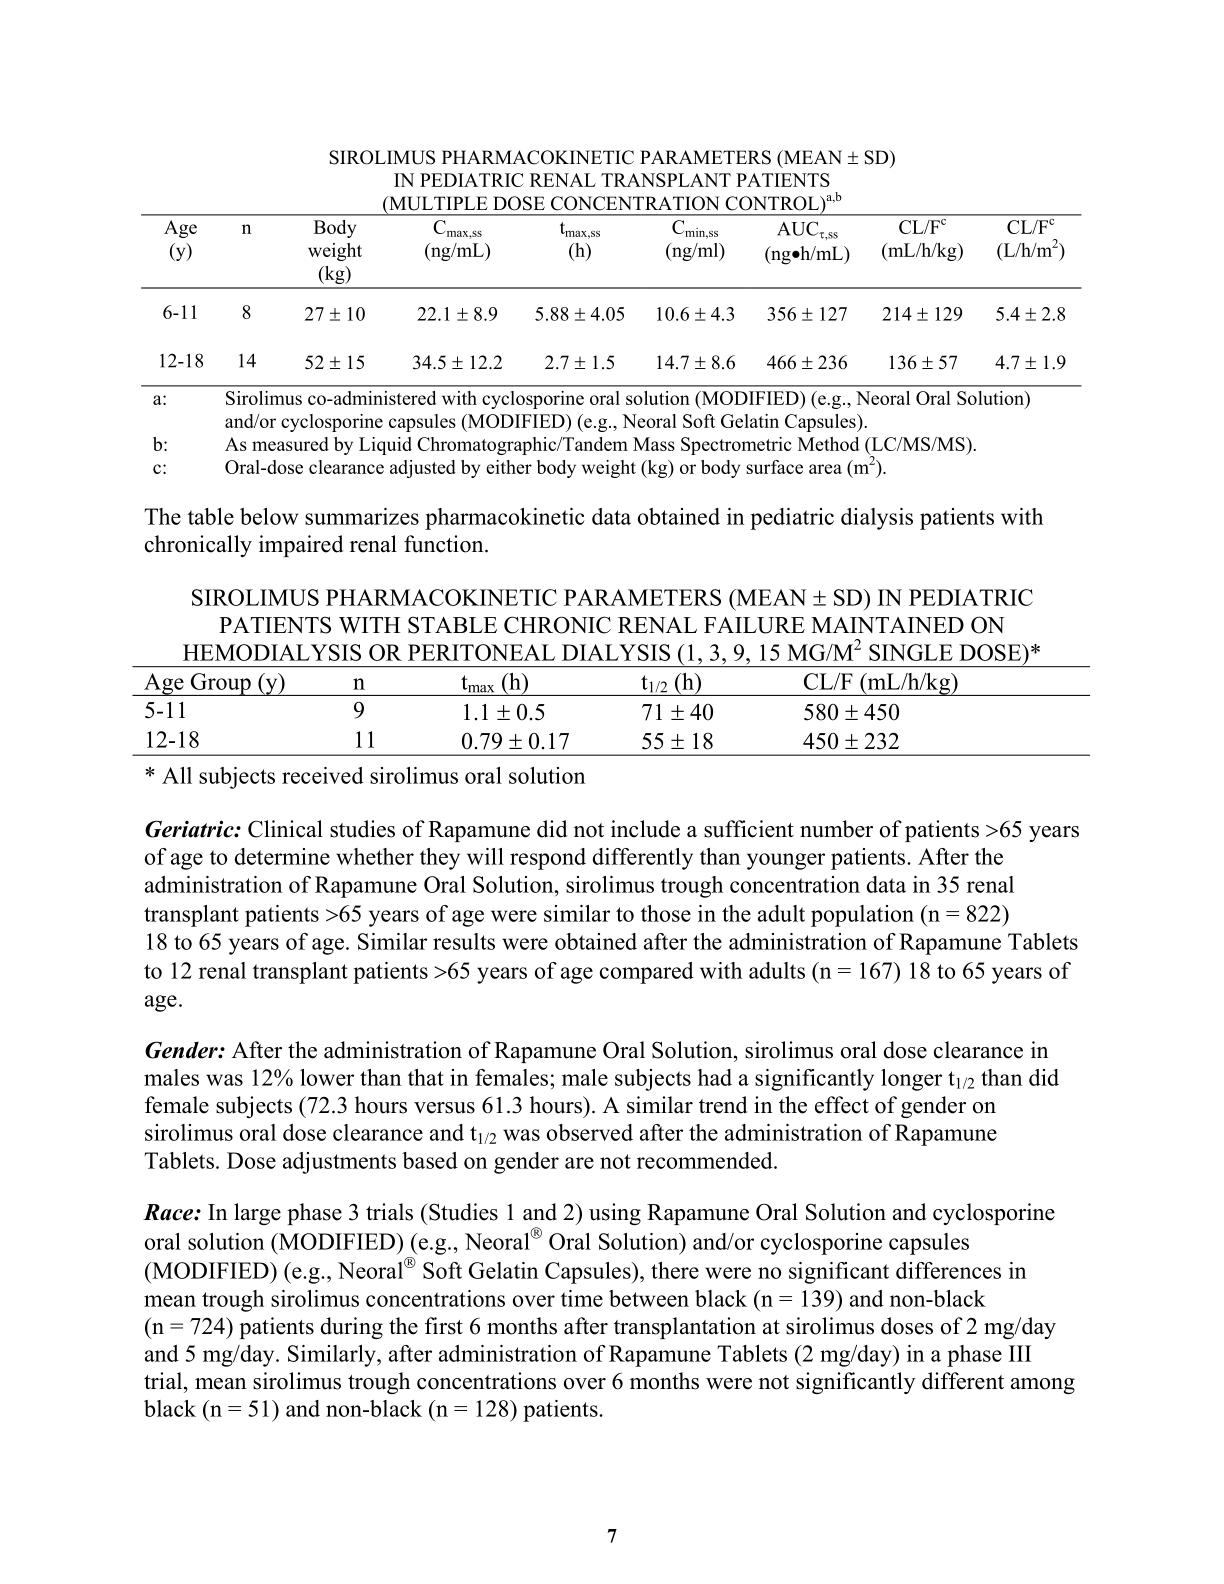partial_lined: (139, 212, 1083, 387), (130, 663, 1092, 757)
